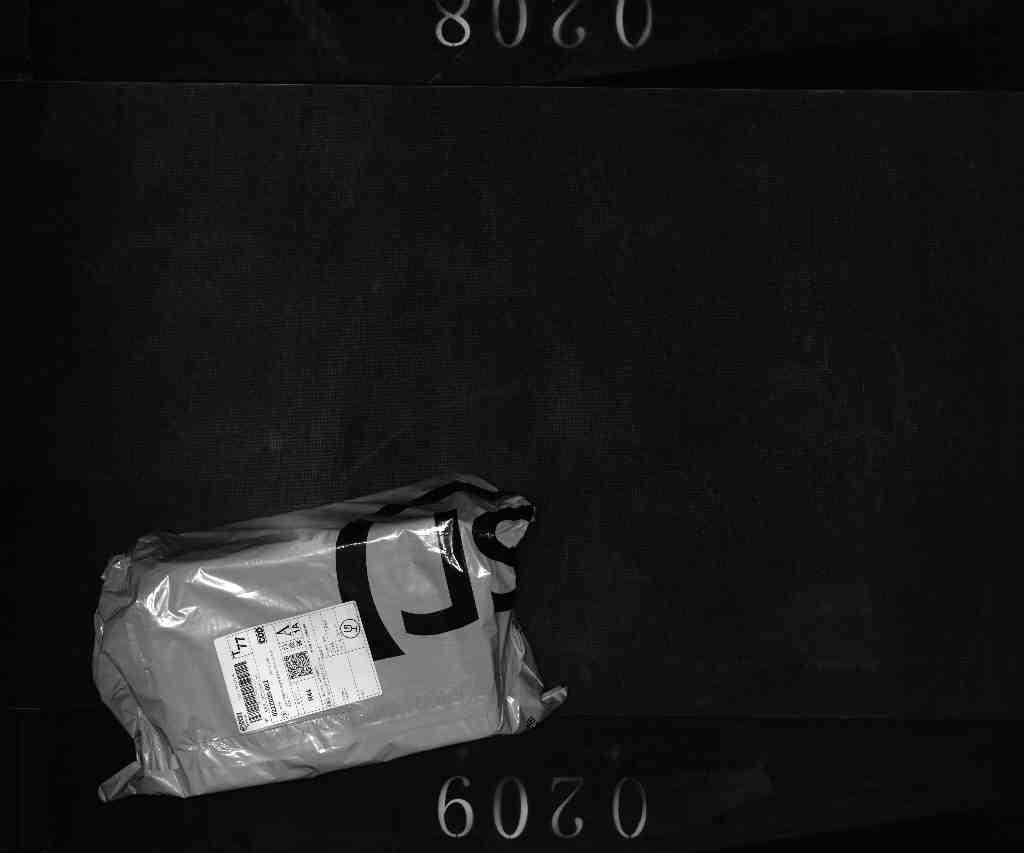box: (83, 483, 578, 796)
